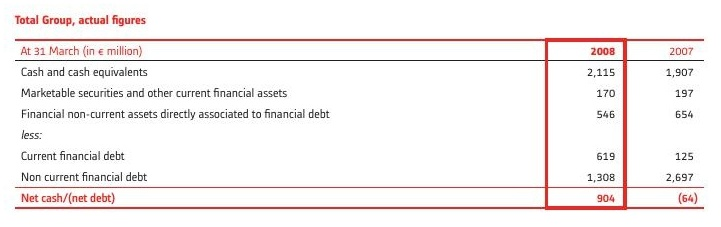table: (0, 0, 721, 227)
